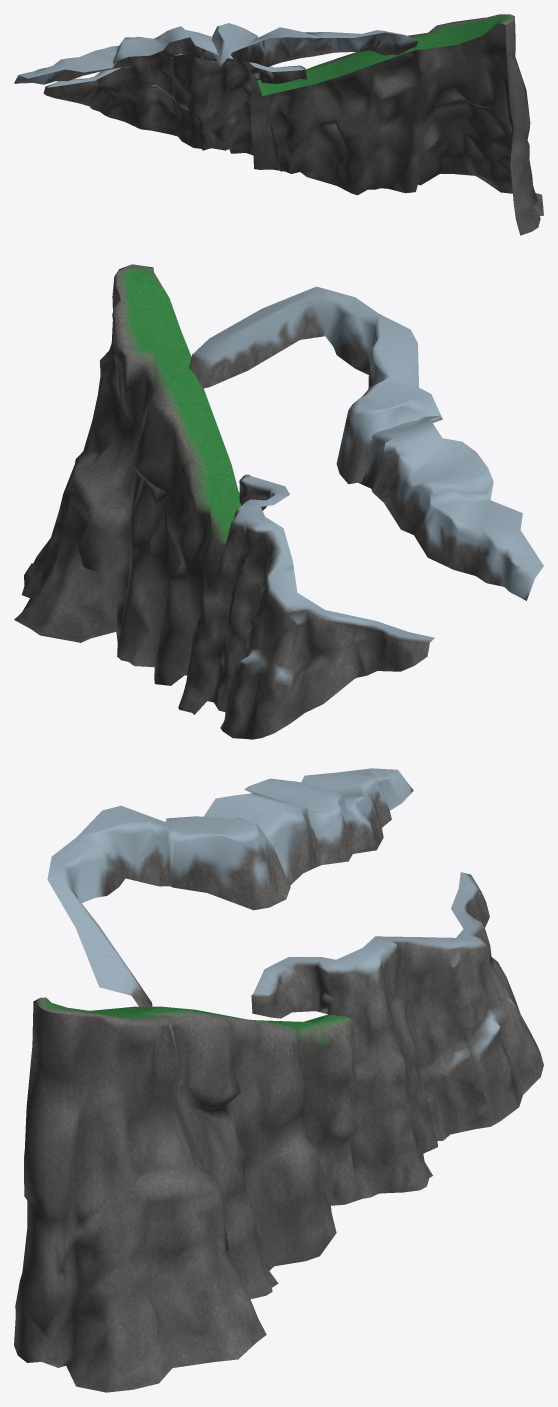
The model's file is clod_terrain_06_08_clod001.gltf.
The picture shows the model from 3 angles, top to bottom: view 1: azimuth 30°, elevation 25°; view 2: azimuth 150°, elevation 25°; view 3: azimuth 270°, elevation 25°; orthographic projection. The views are drawn at different scales.
Visible parts, largest first — view 1: um_clod_terrain_06_08_clod001_0_Shape1:aggregation_mat; view 2: um_clod_terrain_06_08_clod001_0_Shape1:aggregation_mat; view 3: um_clod_terrain_06_08_clod001_0_Shape1:aggregation_mat.
Boxes of the visible parts, <box> form: um_clod_terrain_06_08_clod001_0_Shape1:aggregation_mat: <box>14,14,543,235</box>; um_clod_terrain_06_08_clod001_0_Shape1:aggregation_mat: <box>14,264,543,739</box>; um_clod_terrain_06_08_clod001_0_Shape1:aggregation_mat: <box>14,768,543,1392</box>.
Bounding box in the file's own units: 583 × 298 × 378.
1 material, 1 textured.
